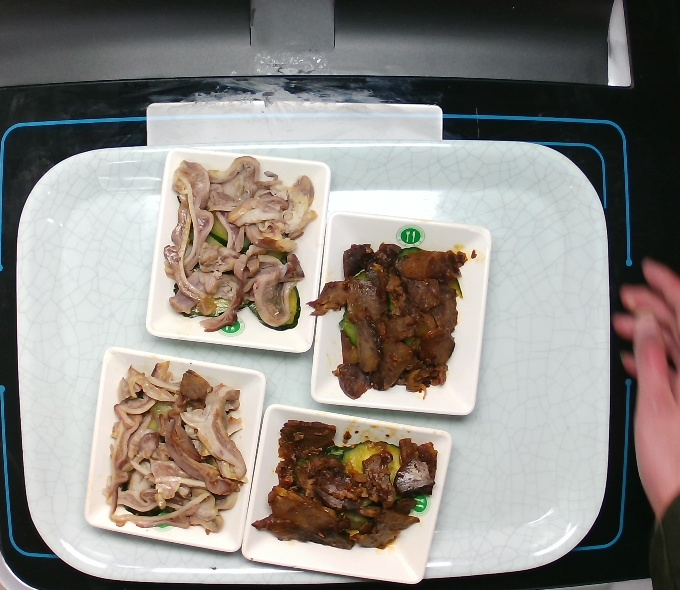wcq-JiangNiuRou: (301, 218, 483, 407), (254, 401, 450, 561)
wcq-ZhuDu: (157, 145, 321, 337), (99, 352, 254, 549)
